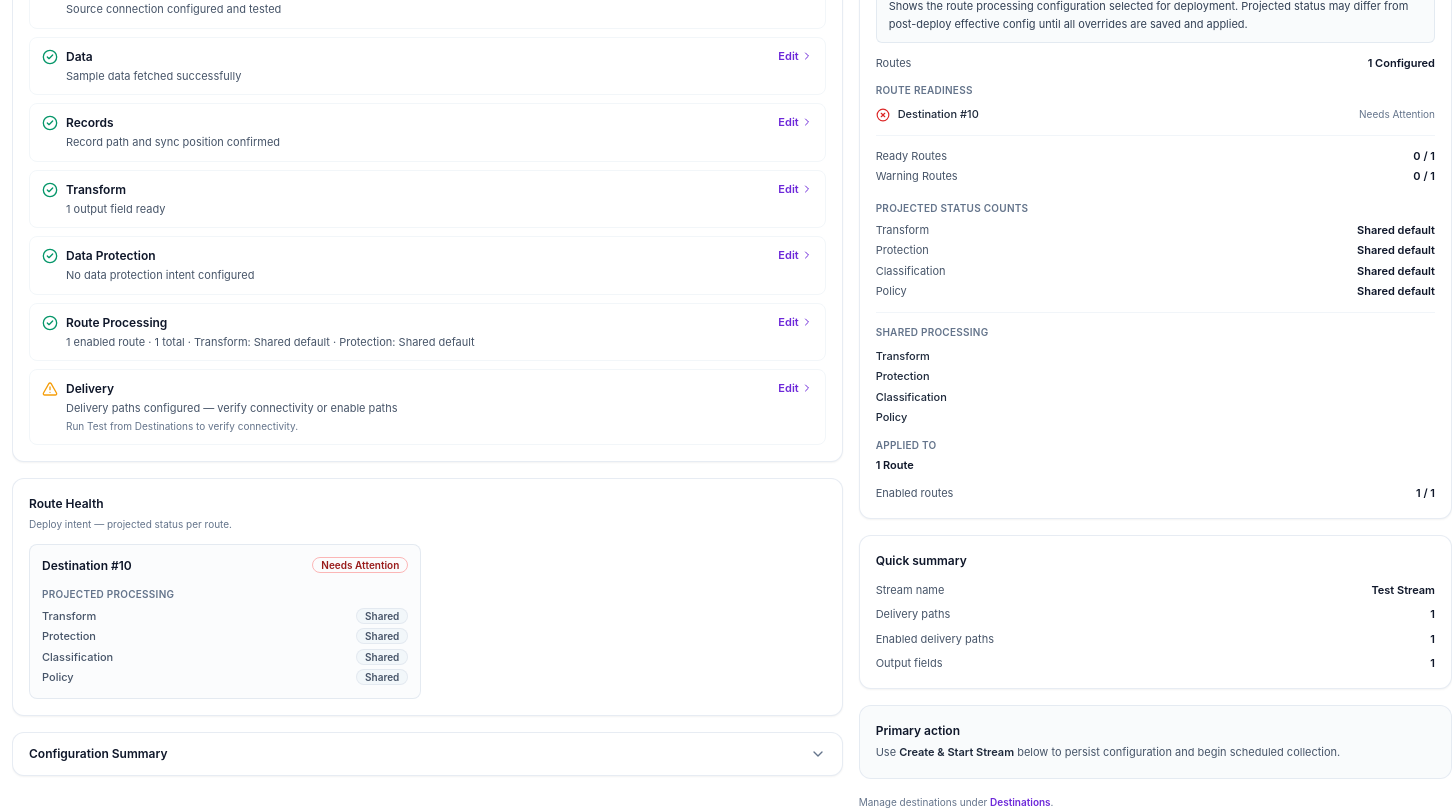
Test: StepDeploy › keeps configuration summary collapsed by default
(page scrolled)
Click the button "Configuration Summary" at point(98, 753), box x1=13 y1=733 x2=842 y2=775
(page scrolled)
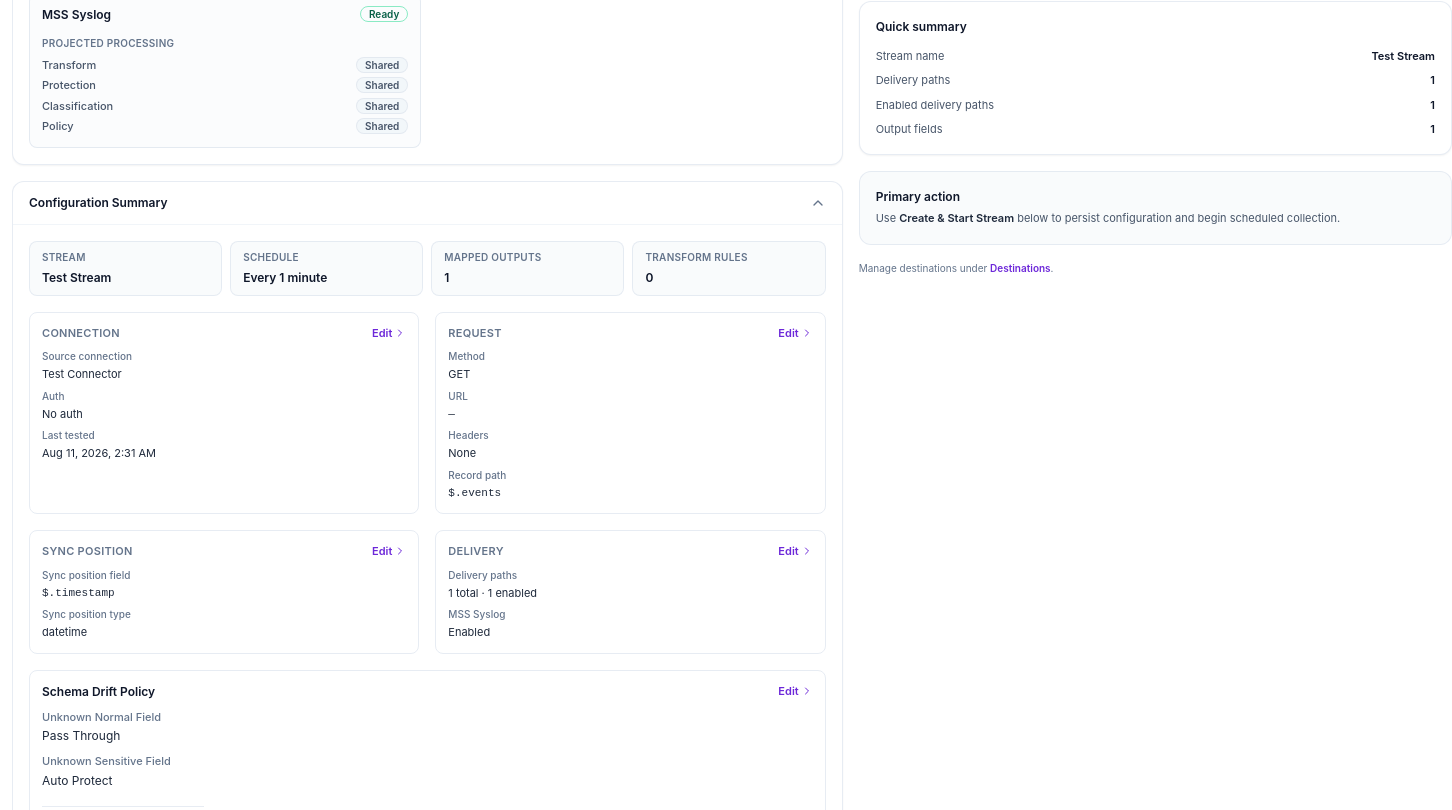
Check: the element that starts with "Source connection" is shown, box x1=42 y1=350 x2=156 y2=460
